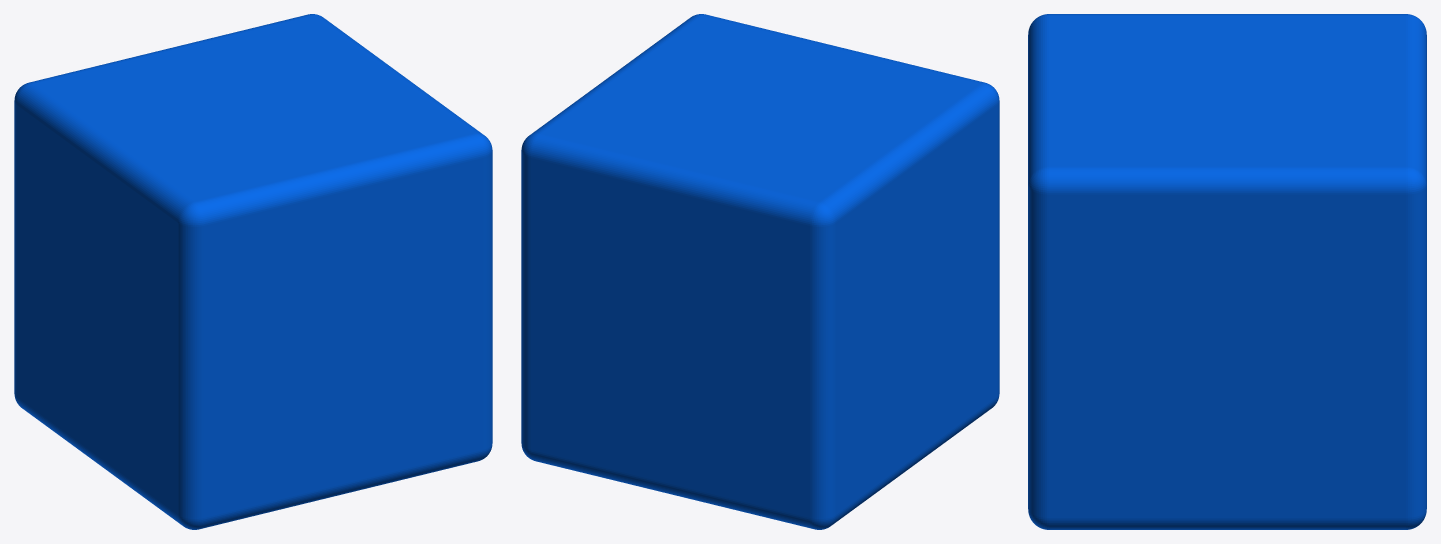
Rendered from baseCubeBlockLRound.glb.
3 renders of one model, left to right at view 1: azimuth 30°, elevation 25°; view 2: azimuth 150°, elevation 25°; view 3: azimuth 270°, elevation 25°, orthographic. The views are drawn at different scales.
Visible parts, largest first — view 1: Cube; view 2: Cube; view 3: Cube.
Boxes of the visible parts, x1,y1,x2,y2 form: Cube: (14,14,492,529); Cube: (521,14,999,529); Cube: (1028,14,1426,529).
Size of the model in its own units: 2 by 2 by 2.
